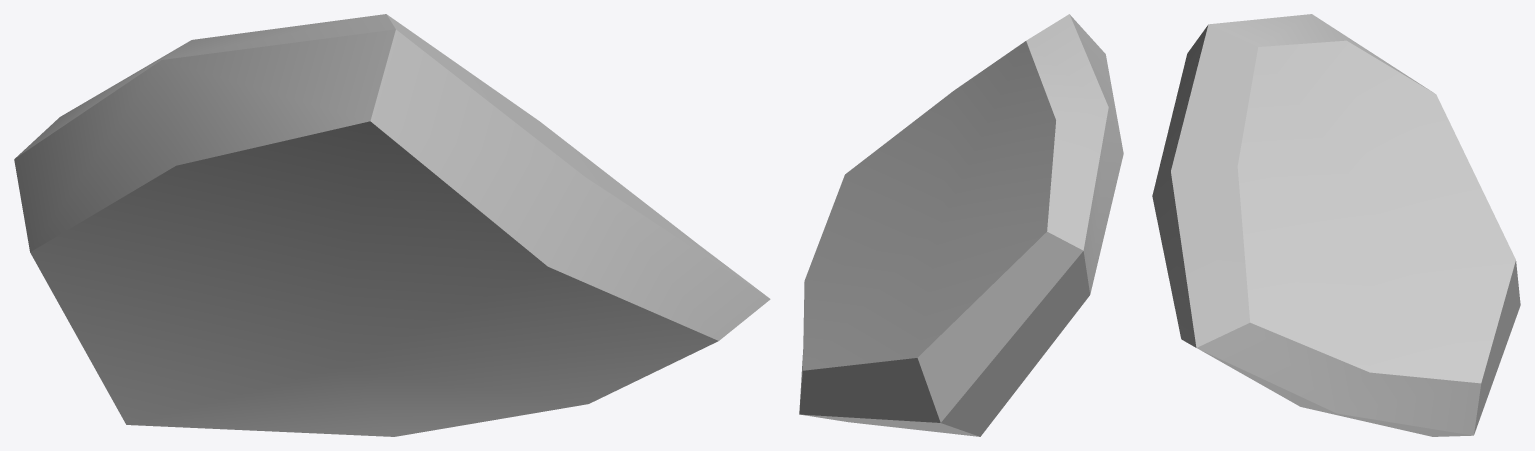
The model's file is Cushion 01.FBX.
The picture shows the model from 3 angles, left to right: view 1: azimuth 30°, elevation 25°; view 2: azimuth 150°, elevation 25°; view 3: azimuth 270°, elevation 25°; orthographic projection. The views are drawn at different scales.
Visible parts, largest first — view 1: Cushion 01; view 2: Cushion 01; view 3: Cushion 01.
Boxes of the visible parts, x1=… form: Cushion 01: x1=14, y1=14, x2=770, y2=436; Cushion 01: x1=799, y1=14, x2=1123, y2=436; Cushion 01: x1=1152, y1=14, x2=1520, y2=436.
Size of the model in its own units: 39.23 by 38.74 by 36.09.
